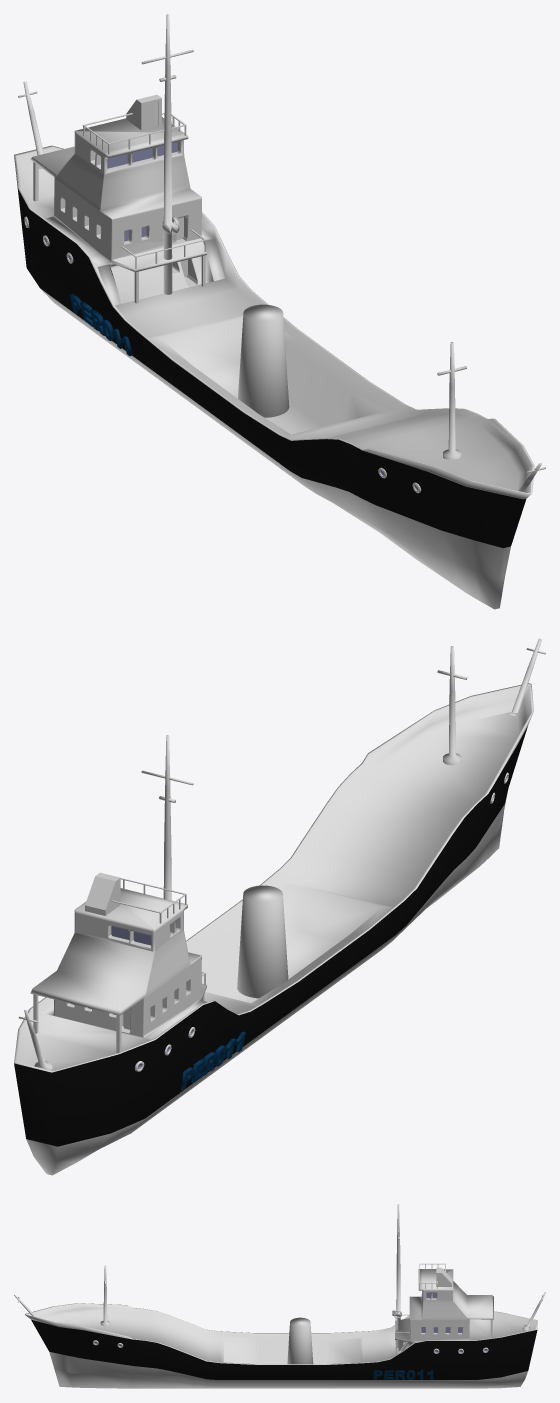
The model's file is D4_Ship4.glb.
3 views of the same model, one above another, from view 1: azimuth 30°, elevation 25°; view 2: azimuth 150°, elevation 25°; view 3: azimuth 270°, elevation 25° (orthographic). The views are drawn at different scales.
Parts seen in each view (by area): view 1: Object_6, Object_2, Cylinder, Text.001, Object_4; view 2: Object_6, Object_2, Cylinder, Text.001; view 3: Object_6, Object_2, Cylinder, Text.
Boxes of the visible parts, box(x1,y1,x2,y2) form: Object_6: box(14, 14, 545, 609); Object_2: box(15, 164, 526, 548); Cylinder: box(238, 304, 289, 417); Text.001: box(70, 293, 132, 356); Object_4: box(26, 141, 418, 490); Object_6: box(14, 638, 545, 1175); Object_2: box(14, 726, 527, 1146); Cylinder: box(237, 885, 288, 998); Text.001: box(181, 1031, 245, 1090); Object_6: box(14, 1204, 545, 1388); Object_2: box(31, 1319, 537, 1379); Cylinder: box(287, 1317, 313, 1364); Text: box(373, 1370, 433, 1379).
Size of the model in its own units: 6.14 by 16.34 by 43.39.
5 materials, 1 textured.
